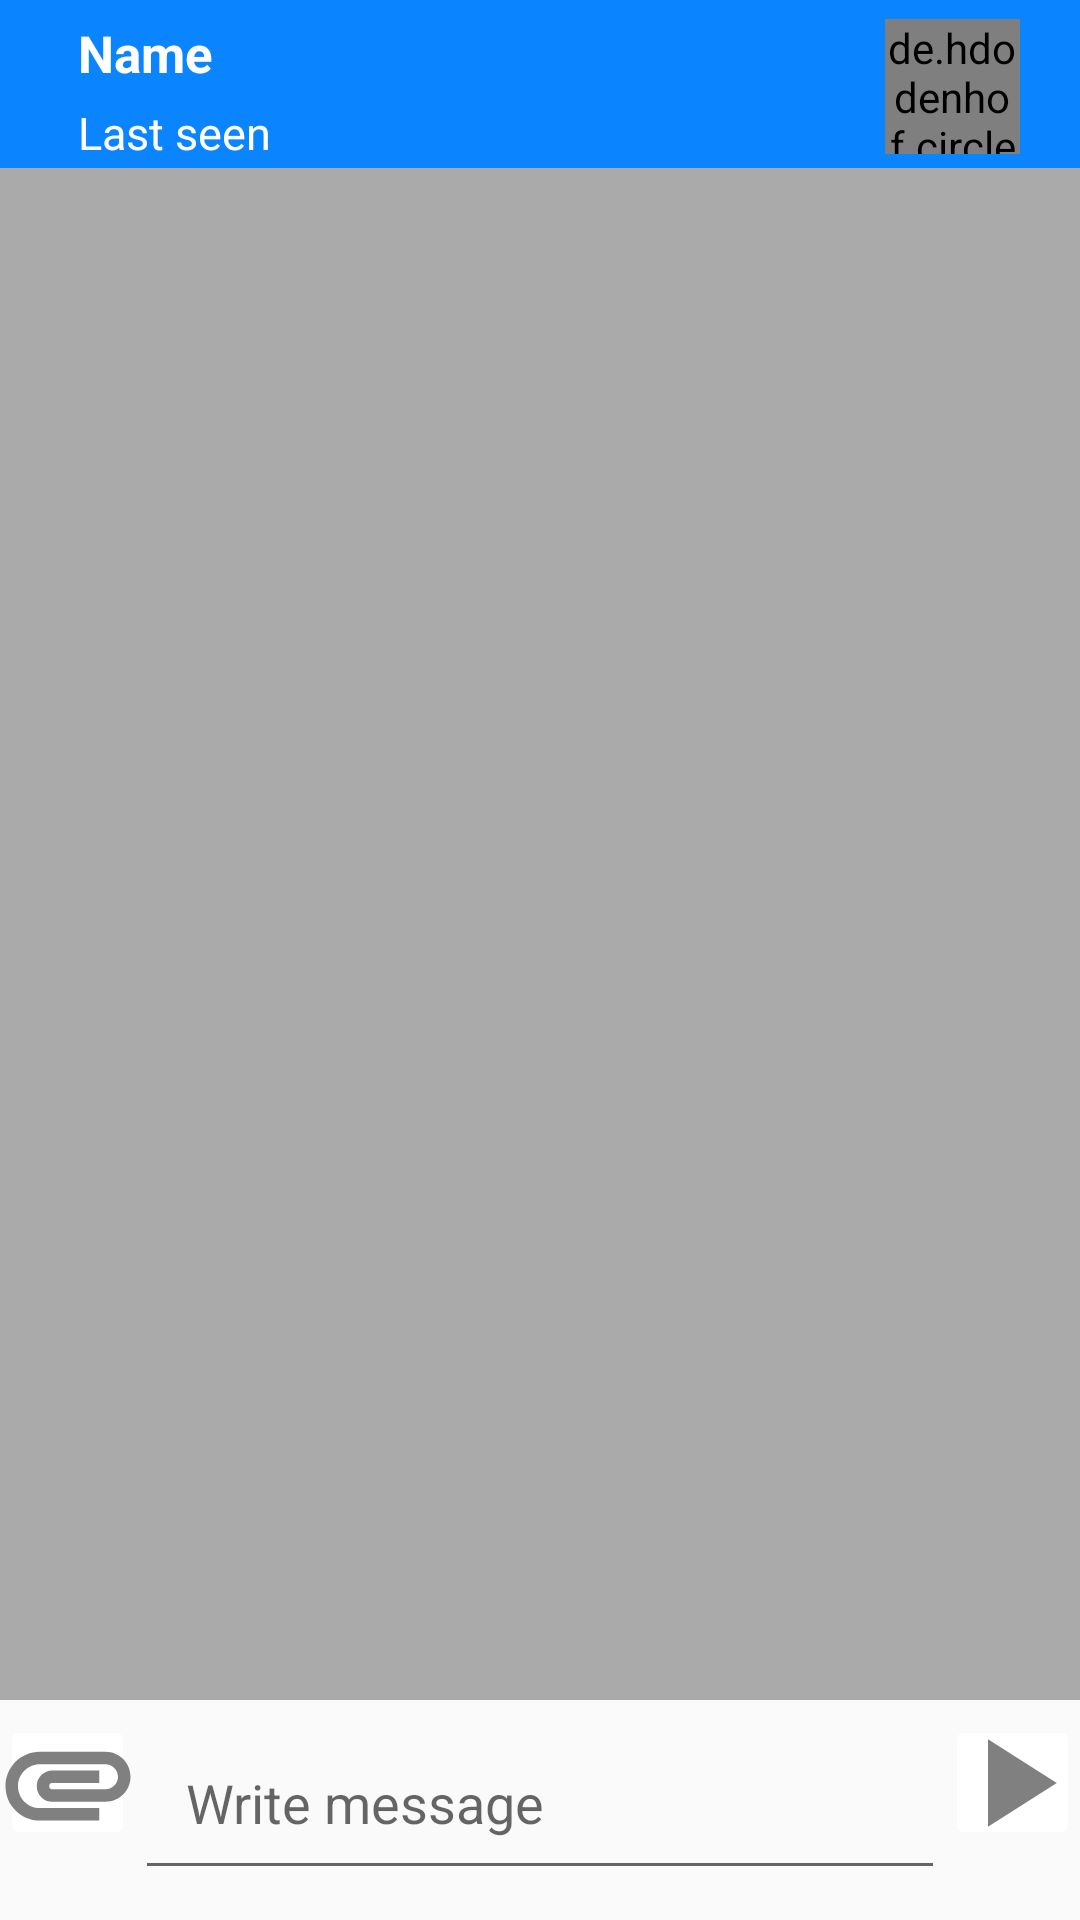

Icons on this 1080*1920 Android screen, each with its box as region(x1, y1, x2, y2):
attachment: region(5, 1751, 131, 1821)
send: region(988, 1739, 1056, 1827)
